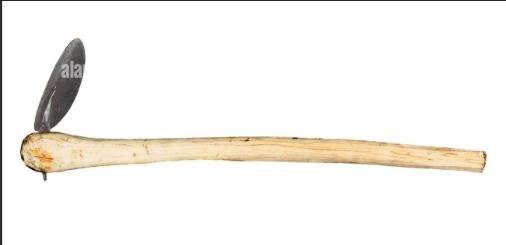HOUE: (18, 35, 496, 187)
